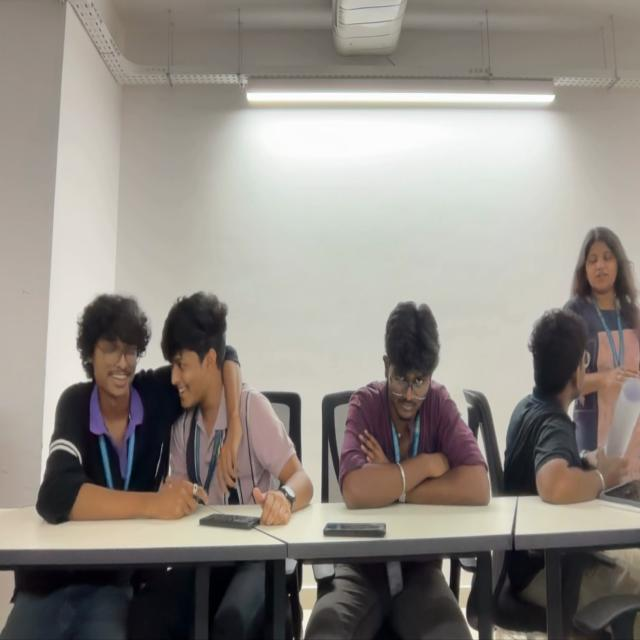Isolated: (340, 299, 489, 505)
socializing: (35, 290, 314, 526), (504, 222, 640, 499)
